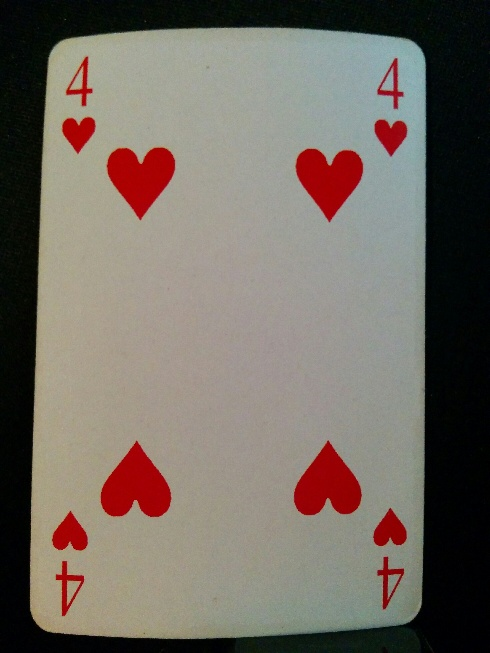H4: (47, 503, 92, 619), (368, 501, 413, 612), (372, 46, 412, 158), (61, 50, 98, 155)
